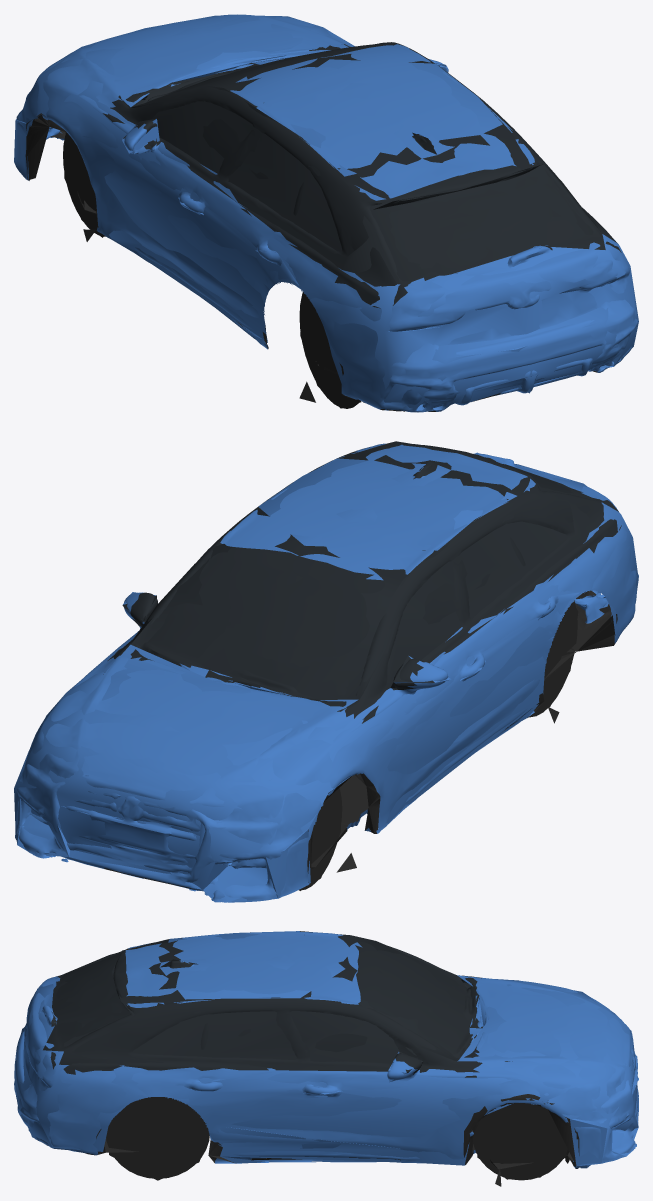
Rendered from audi-s6.glb.
3 renders of one model, top to bottom at view 1: azimuth 30°, elevation 25°; view 2: azimuth 150°, elevation 25°; view 3: azimuth 270°, elevation 25°, orthographic. The views are drawn at different scales.
Visible parts, largest first — view 1: body, far; view 2: body, far; view 3: body, far.
Part boxes in pixels (x1,y1,x2,y2): body: (14,14,637,412); far: (14,15,638,410); body: (15,443,638,902); far: (14,441,638,902); body: (14,932,638,1184); far: (14,931,638,1186).
Bounding box in the file's own units: 2.29 × 1.6 × 5.
